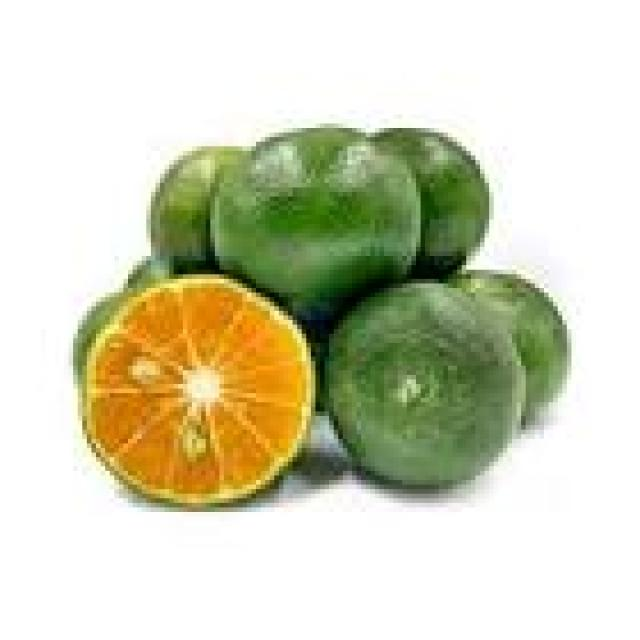orange: (83, 275, 315, 507), (325, 279, 521, 485), (448, 270, 567, 421), (146, 146, 238, 270)
